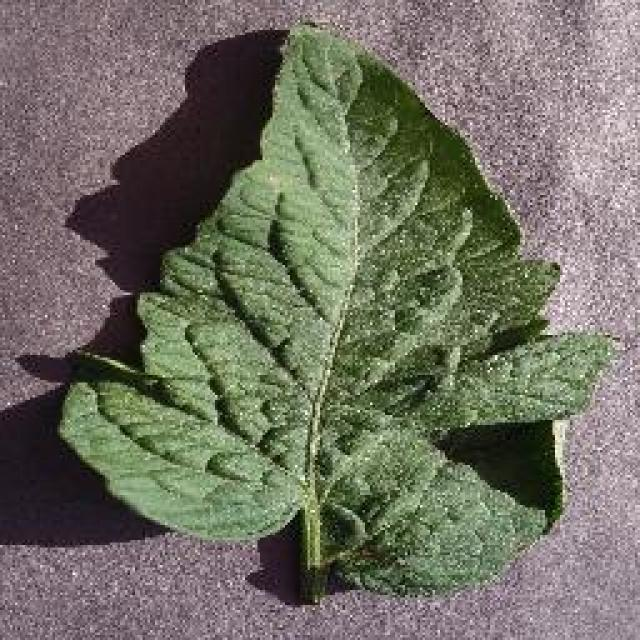Tomato Septoria spot leaf: (58, 24, 610, 588)
